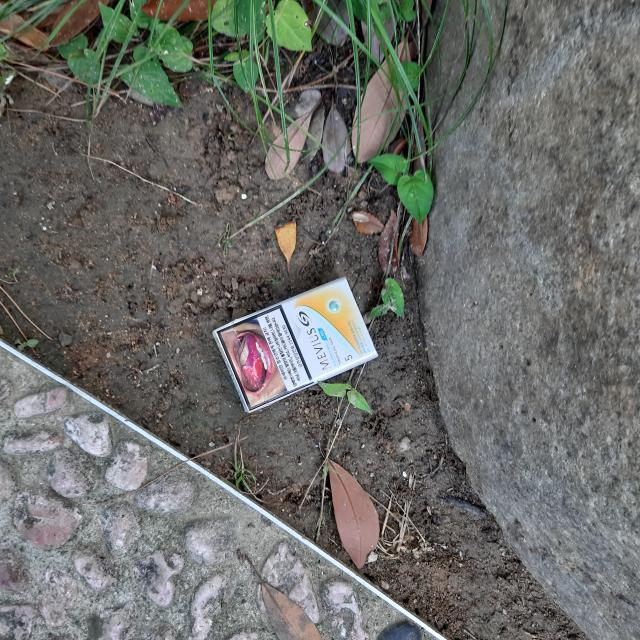litter: (213, 276, 379, 415)
